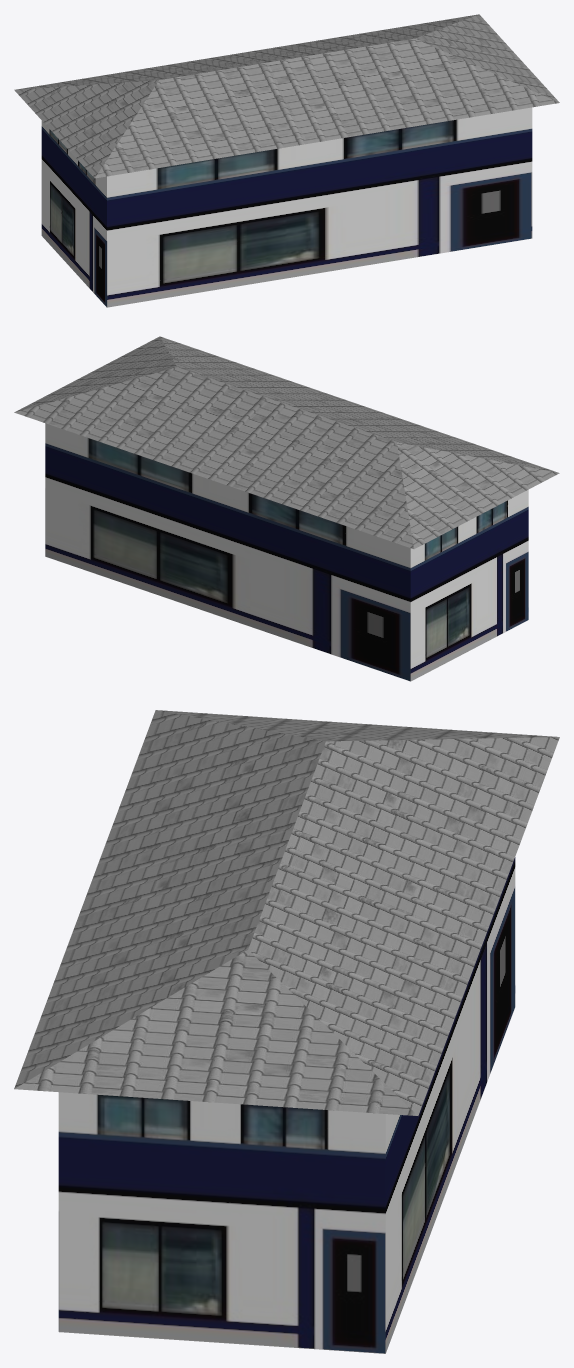
3 views of the same model, one above another, from view 1: azimuth 30°, elevation 25°; view 2: azimuth 150°, elevation 25°; view 3: azimuth 270°, elevation 25° (orthographic). The views are drawn at different scales.
Visible parts, largest first — view 1: CityEngineMaterial_2_m, CityEngineMaterial_4_m; view 2: CityEngineMaterial_2_m, CityEngineMaterial_4_m; view 3: CityEngineMaterial_4_m, CityEngineMaterial_2_m.
Part boxes in pixels (x1,y1,x2,y2): CityEngineMaterial_2_m: (41,107,532,307); CityEngineMaterial_4_m: (14,14,559,178); CityEngineMaterial_2_m: (45,423,528,681); CityEngineMaterial_4_m: (14,336,559,549); CityEngineMaterial_4_m: (14,710,559,1115); CityEngineMaterial_2_m: (58,857,515,1353).
Size of the model in its own units: 23.05 by 8.58 by 13.09.
